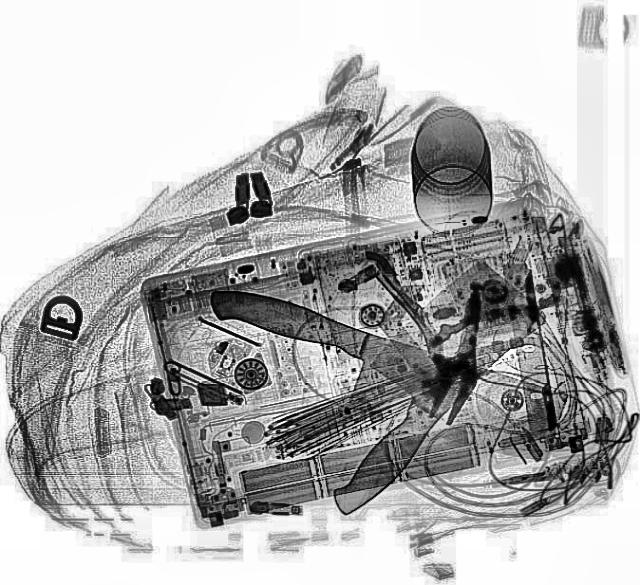Knife: (274, 258, 554, 520), (182, 280, 572, 465)
